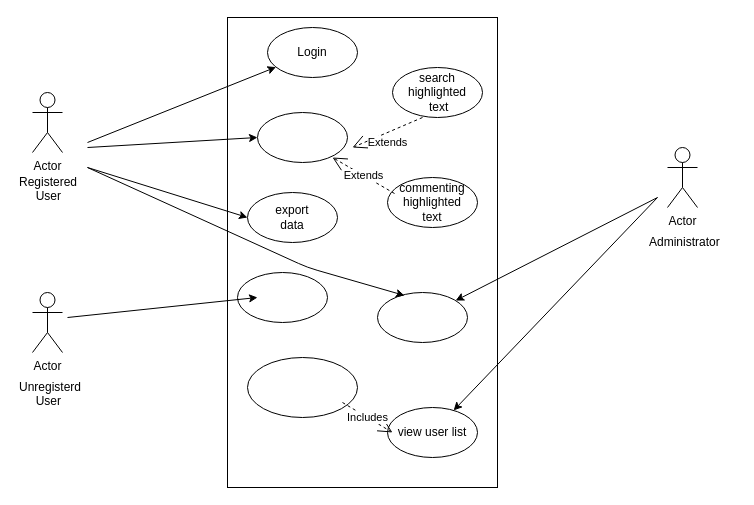
Some shapes in this 754 by 505 pixel diagram are drawn without their labels. The centre of each missing label's shape, as x and y in pixels:
"cancel user account" goes at (422,317).
"Highlight text and save it" goes at (302,137).
"register" goes at (282,297).
"view user highlighted data(encrypted)" goes at (302,387).
